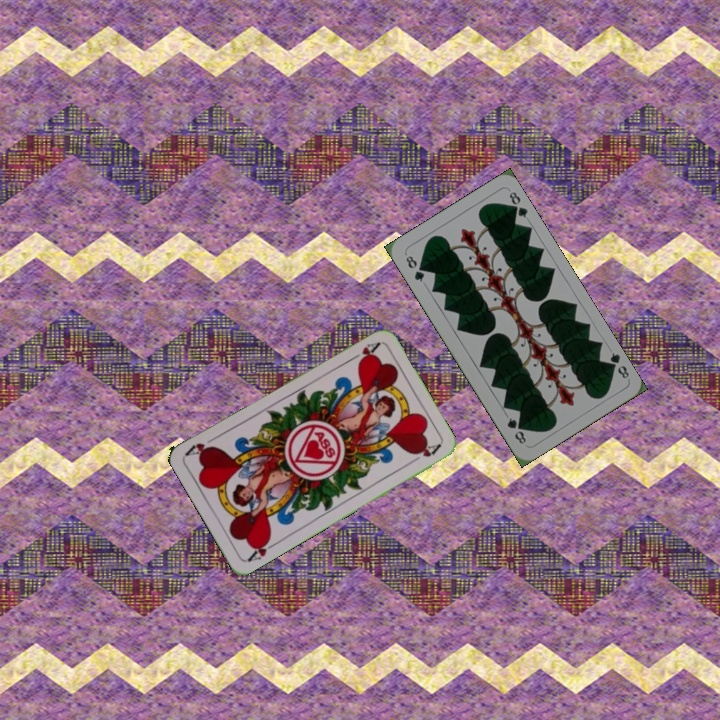G8: (603, 348, 632, 381), (402, 251, 427, 285)
HA: (243, 533, 280, 564), (345, 338, 382, 365)
